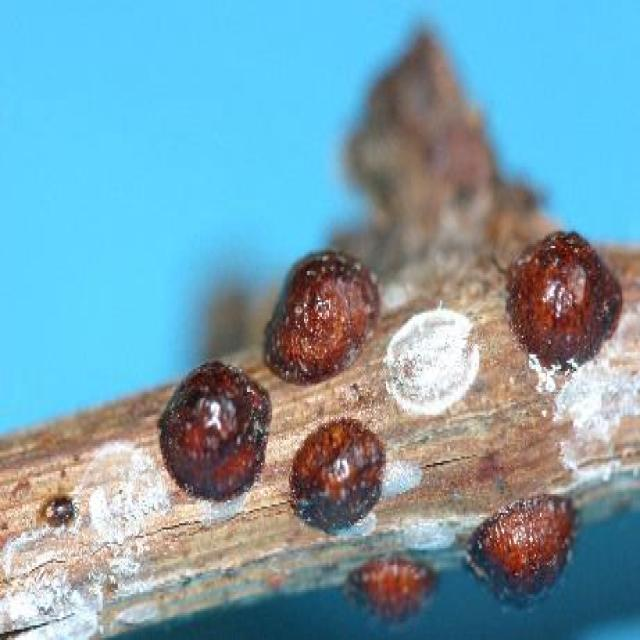Black Scale: (507, 231, 621, 373), (160, 361, 271, 500), (265, 252, 376, 381), (466, 496, 576, 607), (290, 419, 385, 534), (347, 555, 436, 621)
